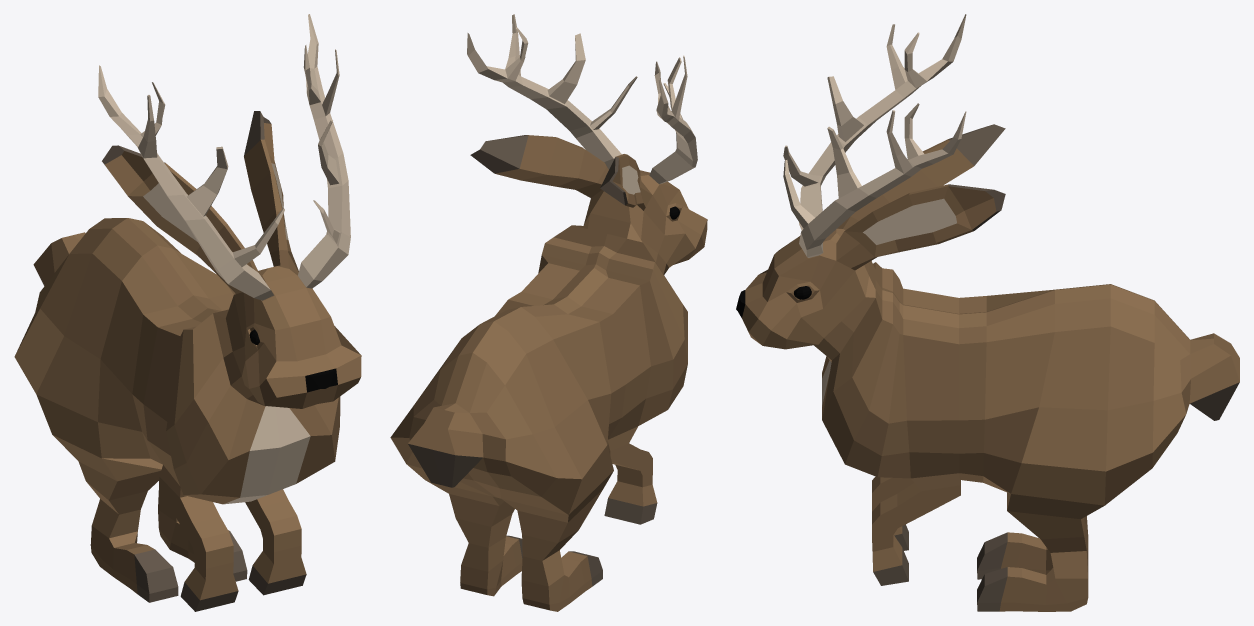
Rendered from XJackolope (Adult) FIX.fbx.
3 views of the same model, side by side, from view 1: azimuth 30°, elevation 25°; view 2: azimuth 150°, elevation 25°; view 3: azimuth 270°, elevation 25° (orthographic). The views are drawn at different scales.
Visible parts, largest first — view 1: Plane; view 2: Plane; view 3: Plane.
Part boxes in pixels (x1,y1,x2,y2): Plane: (14, 14, 361, 611); Plane: (390, 14, 707, 611); Plane: (736, 14, 1239, 611).
Bounding box in the file's own units: 249 × 602 × 522.
